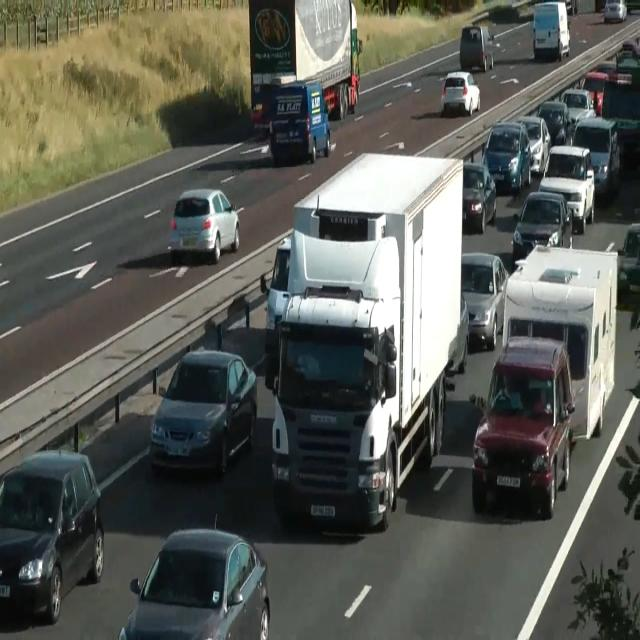bus: (0, 447, 104, 625), (118, 519, 270, 639), (149, 348, 257, 477), (168, 188, 240, 263), (511, 190, 573, 268), (461, 252, 509, 350), (462, 162, 496, 234), (515, 116, 551, 175), (446, 292, 469, 374), (440, 70, 480, 116), (616, 222, 640, 294), (536, 100, 572, 146), (560, 87, 596, 128), (604, 0, 626, 23)
jeep: (471, 335, 575, 518), (268, 80, 330, 164), (538, 144, 595, 234), (570, 116, 620, 198), (481, 121, 531, 194), (532, 0, 570, 61), (459, 24, 495, 72)
minibus: (264, 151, 464, 532), (502, 243, 618, 442), (248, 0, 362, 130)
